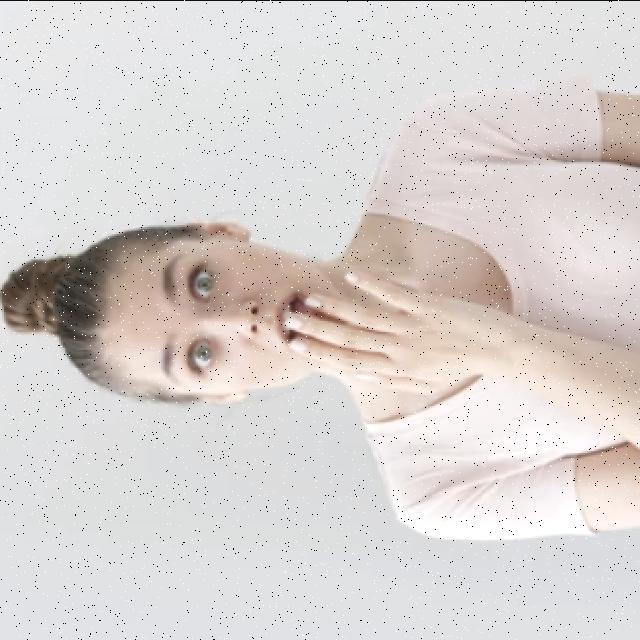face_no_mask: (97, 226, 343, 406)
